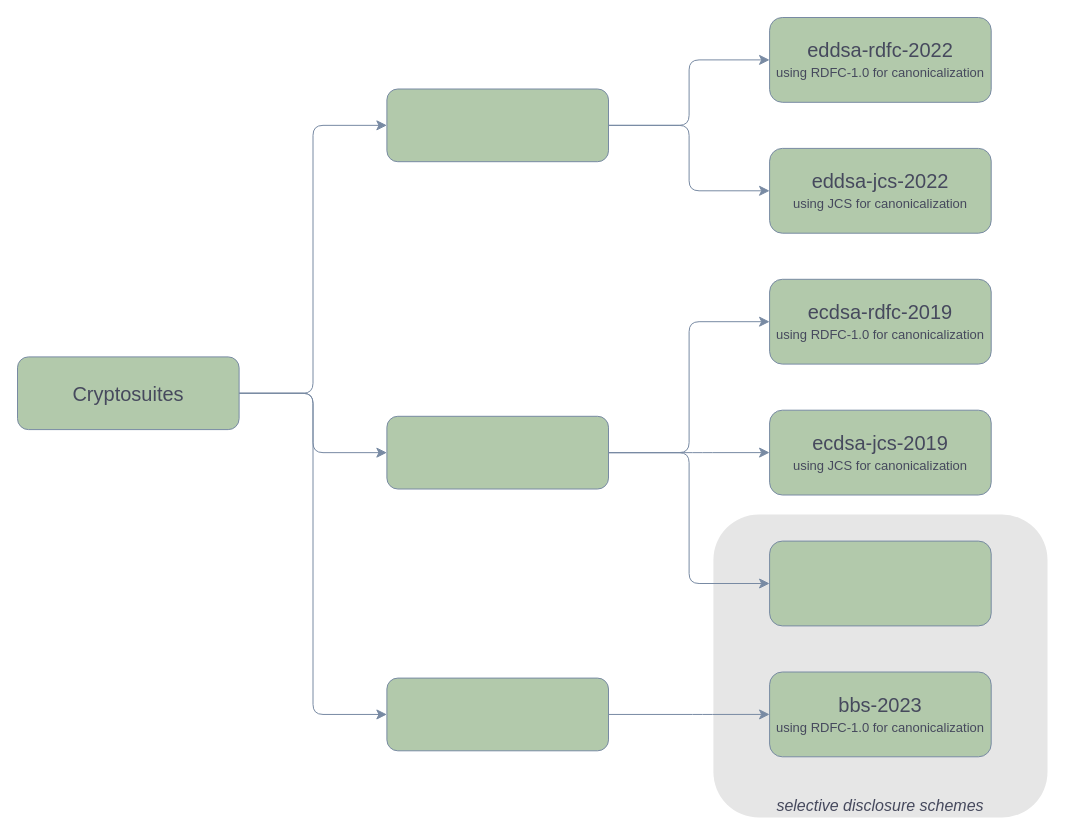
This 1065x835 diagram has some shape labels left out. The centre of each missing label's shape, as x and y in pixels:
"BBS based on BBS schemes" goes at [497,714].
"ECDSA based on ECDSA curves" goes at [497,452].
"ecdsa-sd-2023 using RDFC-1.0 for canonicalization" goes at [880,583].
"EdDSA based on Edwards curves" goes at [497,125].
